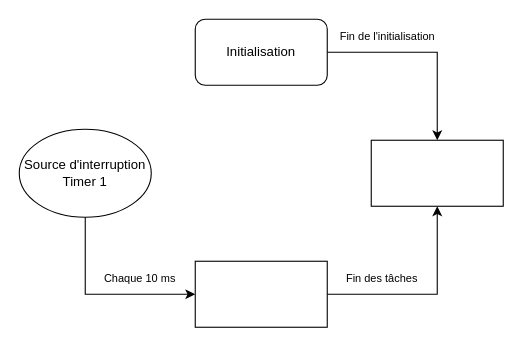
The diagram is 523 pixels wide and 347 high, and some of its shapes have lost their labels. Each missing label, with the centre of its shape:
"Attente" belongs at (x=436, y=172).
"Tâche du programme" belongs at (x=260, y=293).
